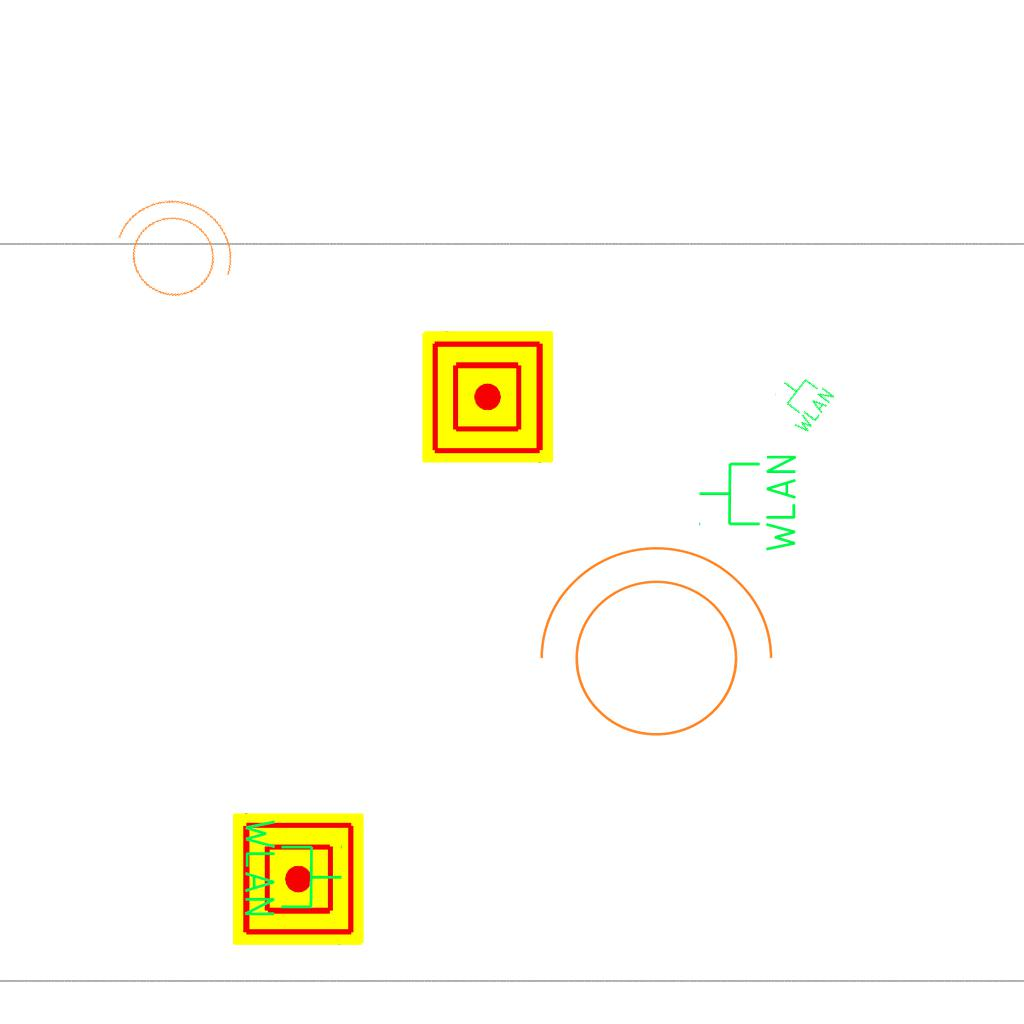NAM-Nichtautomatischer_Melder: (232, 813, 364, 945), (422, 331, 554, 463)
Scheinwerfer_fuer_Alarmbeleuchtung: (518, 536, 782, 761), (91, 176, 253, 326)
WLAN: (696, 451, 800, 556), (241, 815, 345, 920), (764, 364, 838, 438)
